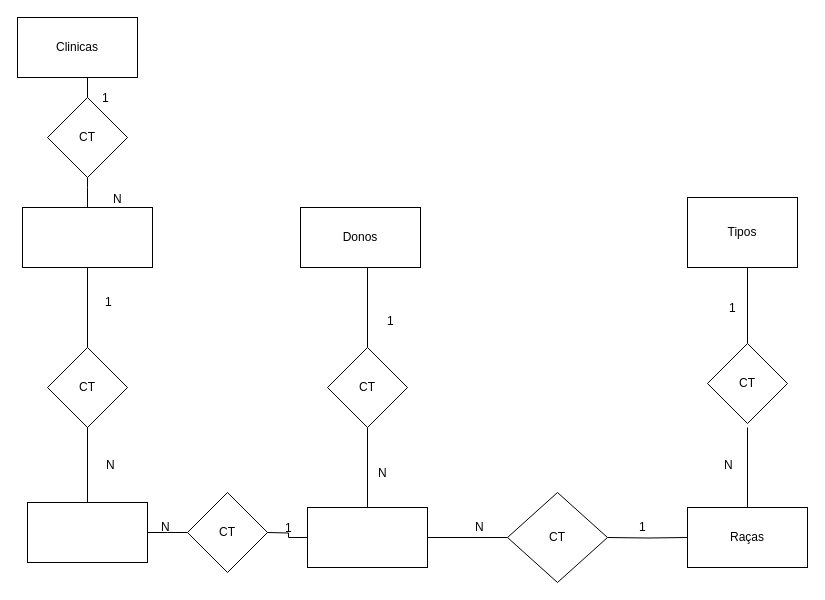
Some shapes in this 825 by 600 pixel diagram are drawn without their labels. The centre of each missing label's shape, as x and y in pixels:
Atendimento: (x=87, y=532)
Pets: (x=367, y=537)
Veterinários: (x=87, y=237)
